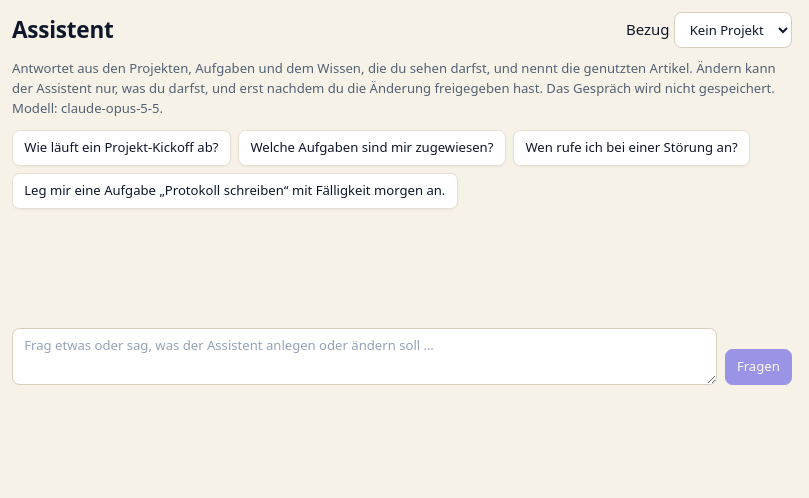
Test case: AssistantPage › runs a proposed change only after the person approved it
Type "Leg eine Aufgabe an" into the text box named "Deine Frage" at (365, 356), box [12,328,717,385]
Then press Enter
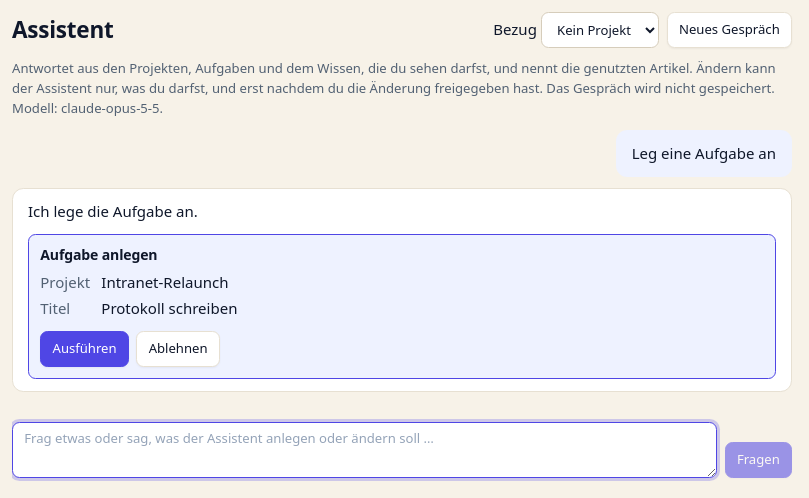
expect the text "Protokoll schreiben" is shown: met, box [101,298,237,318]
Click the button "Ausführen" at (85, 349), box [40,331,129,367]
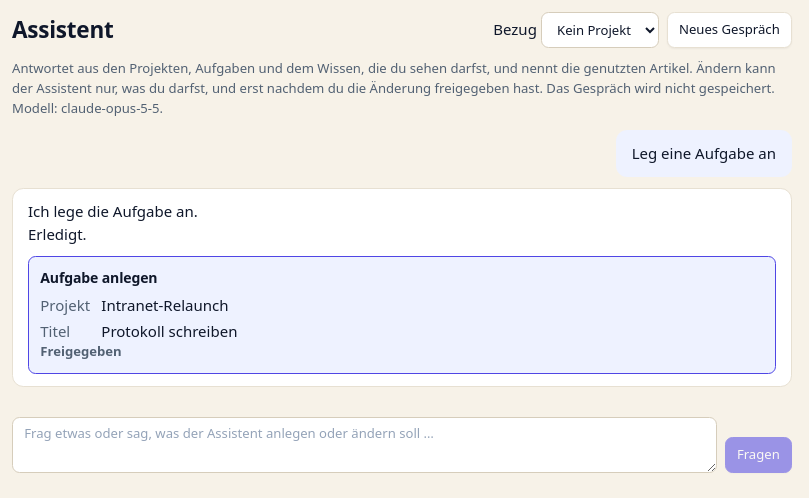
expect the text "Erledigt." is shown: met, box [28,224,87,244]
expect the text "Freigegeben" is shown: met, box [40,342,122,360]
